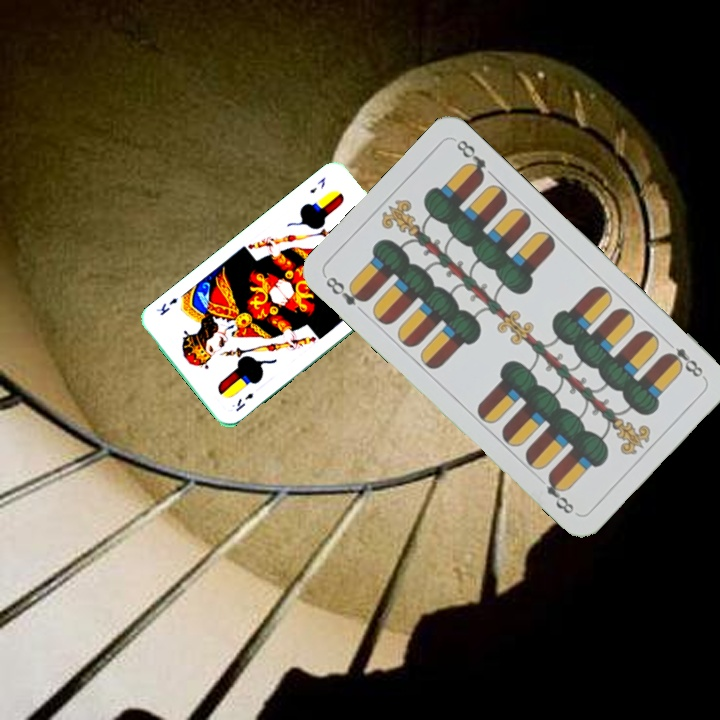E8: (661, 335, 707, 381), (321, 272, 371, 309)
EK: (232, 389, 256, 414), (306, 173, 328, 196)
